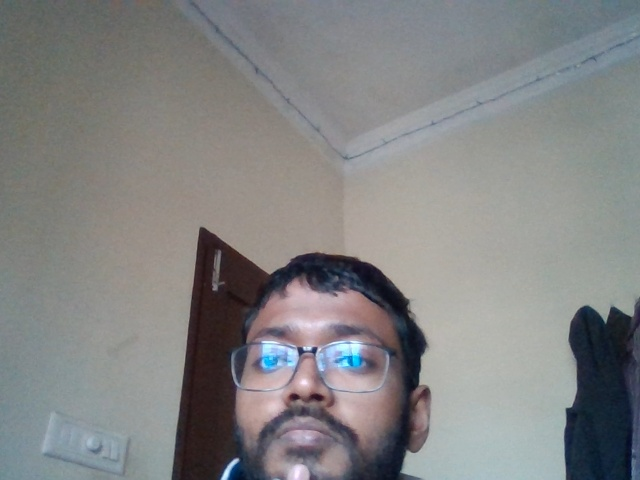thanks: (265, 457, 336, 480)
